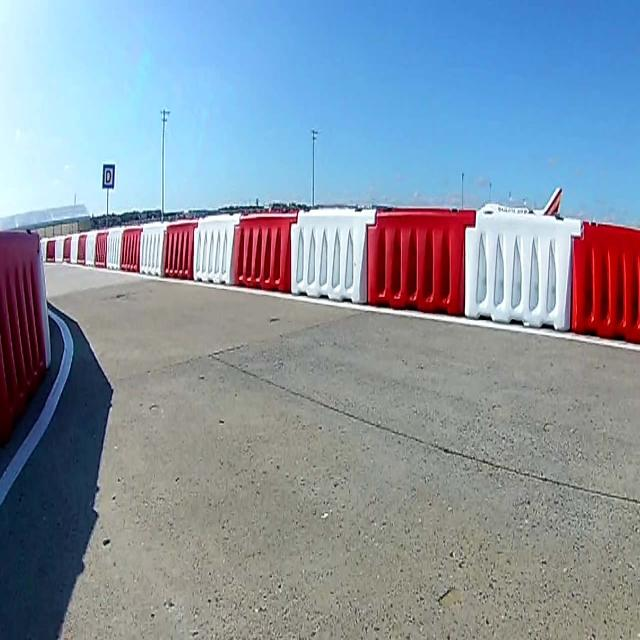durak: (104, 164, 115, 188)
